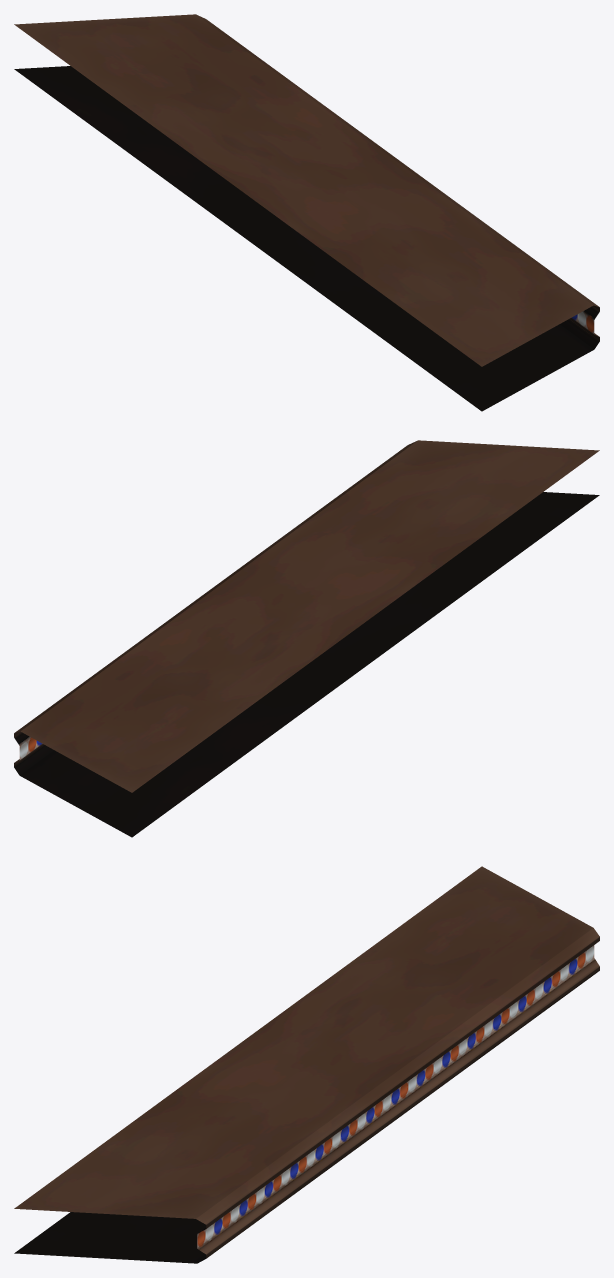
Rendered from em_wall_atrium_crossbeam.fbx.
3 renders of one model, top to bottom at view 1: azimuth 30°, elevation 25°; view 2: azimuth 150°, elevation 25°; view 3: azimuth 330°, elevation 25°, orthographic.
Parts seen in each view (by area): view 1: em_wall_atrium_crossbeam; view 2: em_wall_atrium_crossbeam; view 3: em_wall_atrium_crossbeam.
Boxes of the visible parts, x1,y1,x2,y2 form: em_wall_atrium_crossbeam: (14,14,599,411); em_wall_atrium_crossbeam: (14,440,599,837); em_wall_atrium_crossbeam: (14,866,599,1263).
Bounding box in the file's own units: 3.64 × 1 × 19.
